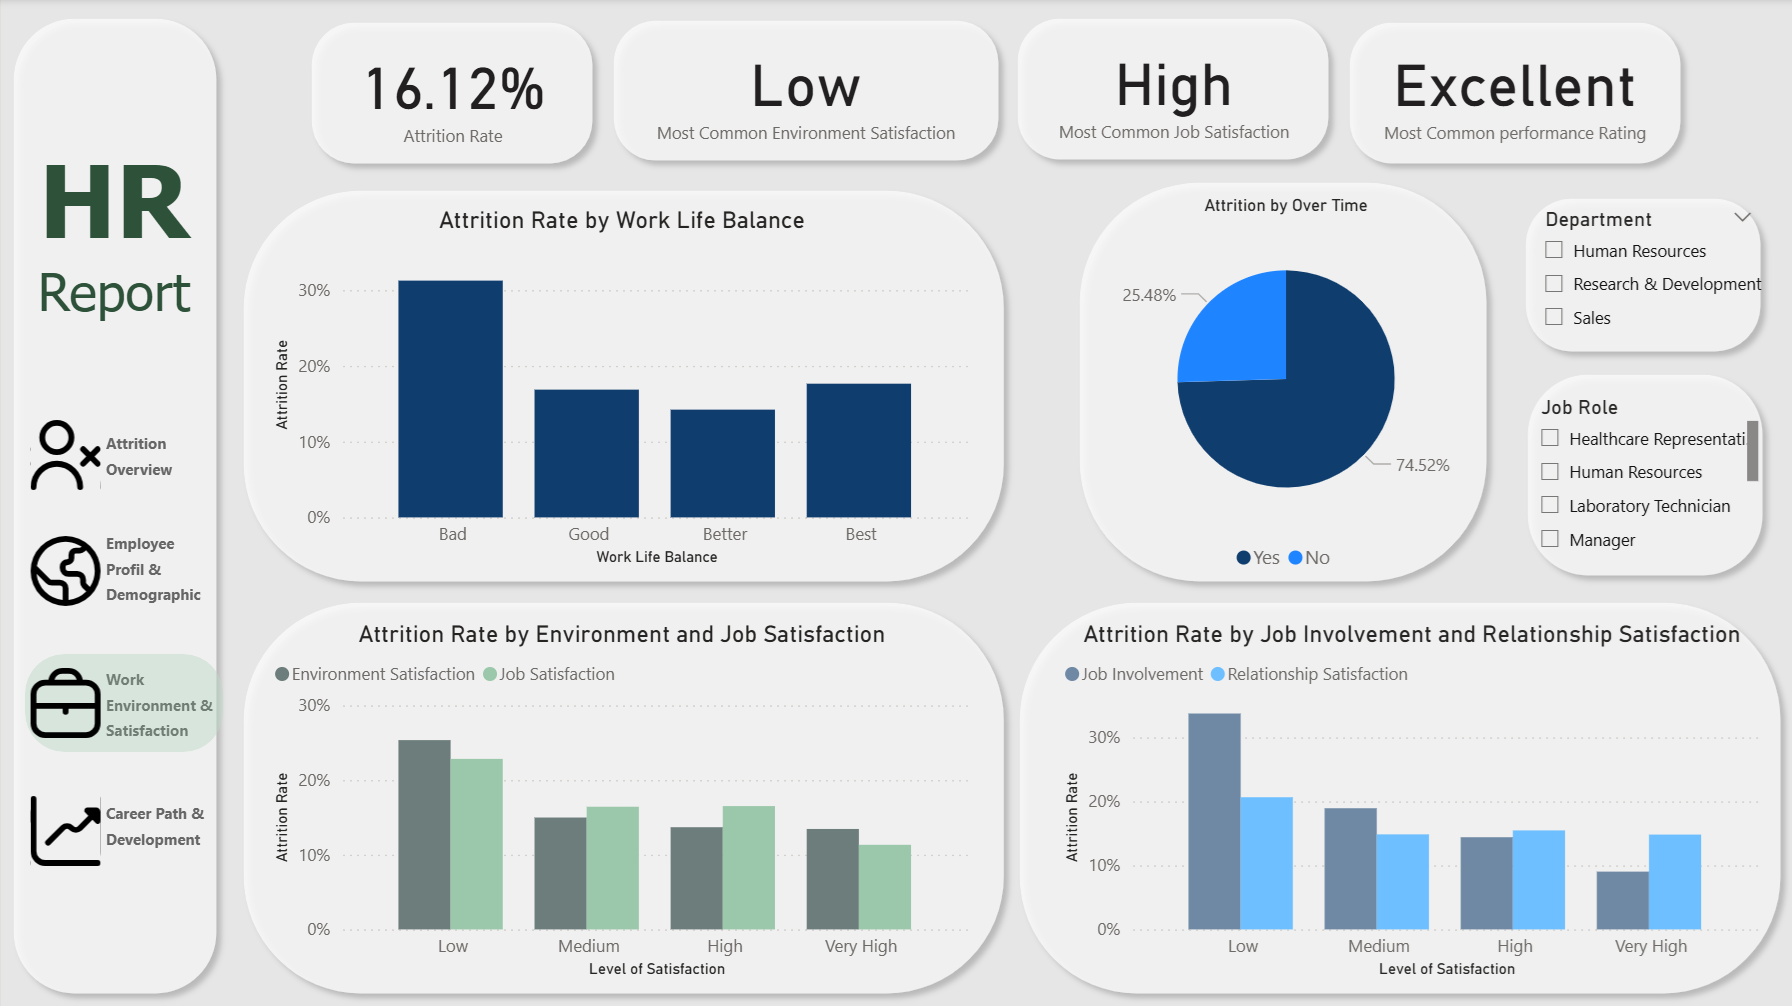

The dashboard page shown, as its layout file describes it:
{"tool":"powerbi","page":{"name":"Work Environment & Satisfaction","canvas":[1280,720],"ordinal":3},"visuals":[{"type":"group","id":"g1","title":"Group 1","box":[0,5.7,162.9,714.3],"z":0},{"type":"shape","box":[0,5.7,162.9,714.3],"z":0,"group":"g1"},{"type":"shape","box":[213.6,8.6,218.6,118.6],"z":1000},{"type":"card","fields":{"Values":["WA_Fn-UseC_-HR-Employee-Attrition.Attrition Rate"]},"box":[225,12.9,197.1,110],"z":2000},{"type":"textbox","box":[70,302.8,80,47.1],"z":2000,"group":"g1"},{"type":"actionButton","box":[17.1,291.4,141.4,70],"z":2250,"group":"g1"},{"type":"shape","box":[429.3,7.9,292.9,118],"z":3000},{"type":"textbox","box":[70,374.3,80,84.3],"z":3000,"group":"g1"},{"type":"actionButton","box":[17.1,374.3,141.4,70],"z":3500,"group":"g1"},{"type":"textbox","box":[70,471.4,92.9,67.1],"z":3875,"group":"g1"},{"type":"card","fields":{"Values":["WA_Fn-UseC_-HR-Employee-Attrition.Most Common Environment Satisfaction Label"]},"box":[445,10.7,261.4,111.4],"z":4000},{"type":"actionButton","box":[17.1,468.6,141.4,70],"z":4250,"group":"g1"},{"type":"shape","box":[716.4,5.7,240,118.6],"z":5000},{"type":"card","fields":{"Values":["WA_Fn-UseC_-HR-Employee-Attrition.Most Common Job Satisfaction Label"]},"box":[733.6,10,207.1,110],"z":6000},{"type":"shape","box":[954.3,7.9,254.3,118.6],"z":7000},{"type":"textbox","box":[70,567.1,88.6,55.7],"z":7000,"group":"g1"},{"type":"actionButton","box":[17.1,560,141.4,70],"z":7500,"group":"g1"},{"type":"card","fields":{"Values":["WA_Fn-UseC_-HR-Employee-Attrition.Most Common performance Rating Label"]},"box":[980,9.3,202.9,111.4],"z":8000},{"type":"shape","box":[164.3,422.9,561,297.1],"z":9000},{"type":"clusteredColumnChart","title":"Attrition Rate by Environment and Job Satisfaction","fields":{"Series":["HR 2.Satisfaction"],"Y":["HR 2.Attrition Rate 2"],"Category":["Satisfaction.Satisfaction"]},"box":[190,444.3,507.1,260],"z":10000},{"type":"shape","box":[164.3,129.3,561,297.1],"z":11000},{"type":"columnChart","title":"Attrition Rate by Work Life Balance","fields":{"Category":["Work Life Balance.Work Life Balance"],"Y":["WA_Fn-UseC_-HR-Employee-Attrition.Attrition Rate"]},"box":[190,148.6,507.1,261.4],"z":12000},{"type":"shape","box":[761.4,122.1,308.6,302.9],"z":13000},{"type":"pieChart","title":"Attrition by Over Time","fields":{"Y":["WA_Fn-UseC_-HR-Employee-Attrition.Attrition Rate"],"Category":["WA_Fn-UseC_-HR-Employee-Attrition.Over Time"]},"box":[780,140.7,275.7,277.1],"z":14000},{"type":"shape","box":[718.6,422.9,561.4,297.1],"z":15000},{"type":"clusteredColumnChart","title":"Attrition Rate by Job Involvement and Relationship Satisfaction","fields":{"Y":["HR 2.Attrition Rate 2"],"Series":["HR 2.Attribute"],"Category":["Satisfaction (2).Satisfaction"]},"box":[754.3,444.3,507.1,260],"z":16000},{"type":"shape","box":[1080,134.3,185.7,127.1],"z":17000},{"type":"slicer","fields":{"Values":["WA_Fn-UseC_-HR-Employee-Attrition.Department"]},"box":[1090,144.3,172.9,114.3],"z":18000},{"type":"shape","box":[1081.4,260,185.7,161.4],"z":19000},{"type":"slicer","fields":{"Values":["WA_Fn-UseC_-HR-Employee-Attrition.Job Role"]},"box":[1087.1,278.6,172.9,125.7],"z":20000},{"type":"textbox","box":[17.1,94.3,127.1,151.4],"z":21000}]}

Visuals, with their boxes in screenshot pixels (x1, y1, x2, y2), scaled from the page's 1280x720 canvas onto the 1792x1006 screenshot:
"Group 1" group: bbox=(0, 8, 228, 1005)
shape: bbox=(0, 8, 228, 1005)
shape: bbox=(299, 12, 605, 178)
card - WA_Fn-UseC_-HR-Employee-Attrition.Attrition Rate: bbox=(315, 18, 591, 172)
textbox: bbox=(98, 423, 210, 489)
actionButton: bbox=(24, 407, 222, 505)
shape: bbox=(601, 11, 1011, 176)
textbox: bbox=(98, 523, 210, 641)
actionButton: bbox=(24, 523, 222, 621)
textbox: bbox=(98, 659, 228, 752)
card - WA_Fn-UseC_-HR-Employee-Attrition.Most Common Environment Satisfaction Label: bbox=(623, 15, 989, 171)
actionButton: bbox=(24, 655, 222, 753)
shape: bbox=(1003, 8, 1339, 174)
card - WA_Fn-UseC_-HR-Employee-Attrition.Most Common Job Satisfaction Label: bbox=(1027, 14, 1317, 168)
shape: bbox=(1336, 11, 1692, 177)
textbox: bbox=(98, 792, 222, 870)
actionButton: bbox=(24, 782, 222, 880)
card - WA_Fn-UseC_-HR-Employee-Attrition.Most Common performance Rating Label: bbox=(1372, 13, 1656, 169)
shape: bbox=(230, 591, 1015, 1005)
"Attrition Rate by Environment and Job Satisfaction" clusteredColumnChart: bbox=(266, 621, 976, 984)
shape: bbox=(230, 181, 1015, 596)
"Attrition Rate by Work Life Balance" columnChart: bbox=(266, 208, 976, 573)
shape: bbox=(1066, 171, 1498, 594)
"Attrition by Over Time" pieChart: bbox=(1092, 197, 1478, 584)
shape: bbox=(1006, 591, 1791, 1005)
"Attrition Rate by Job Involvement and Relationship Satisfaction" clusteredColumnChart: bbox=(1056, 621, 1766, 984)
shape: bbox=(1512, 188, 1772, 365)
slicer - WA_Fn-UseC_-HR-Employee-Attrition.Department: bbox=(1526, 202, 1768, 361)
shape: bbox=(1514, 363, 1774, 589)
slicer - WA_Fn-UseC_-HR-Employee-Attrition.Job Role: bbox=(1522, 389, 1764, 565)
textbox: bbox=(24, 132, 202, 343)
